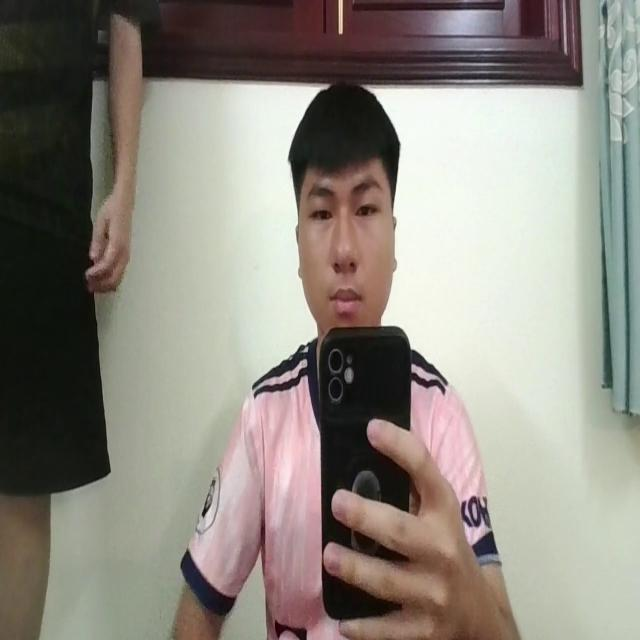extra_person: (0, 0, 147, 640)
phone: (314, 322, 414, 632)
student: (163, 90, 518, 640)
